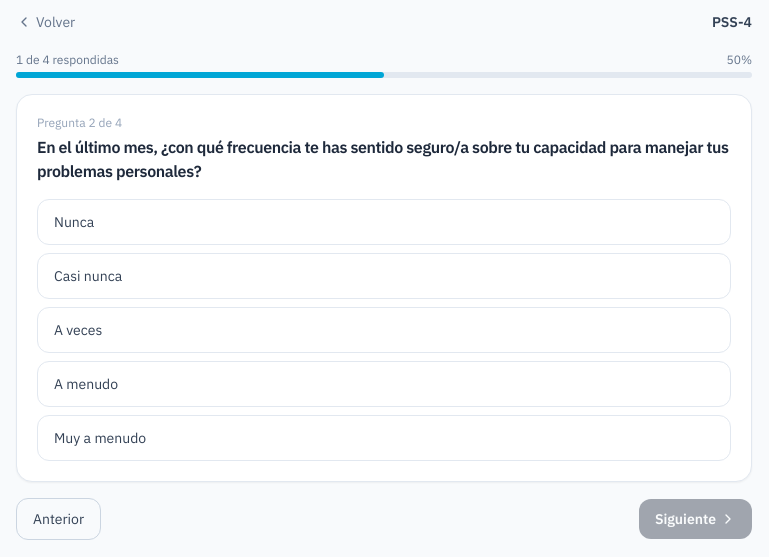
MhAssessmentRunPage (flujo responder → preview → completar → resultado) › prevención de doble submit: confirmar no envía dos POST mientras guarda
The width and height of the screenshot is (769, 557).
Earlier steps of the test are not shown.
Later steps or results of the test are not shown.
Expected: the text "Pregunta 2 de 4" is shown, [37, 115, 122, 130]
Click the button "Casi nunca" at (88, 276), box [37, 253, 731, 299]
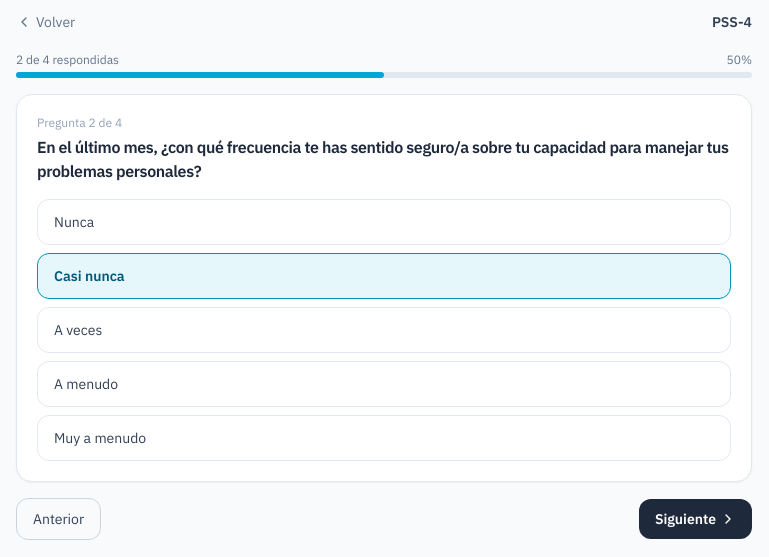
Click the button "Siguiente" at (695, 519), box [639, 499, 752, 539]
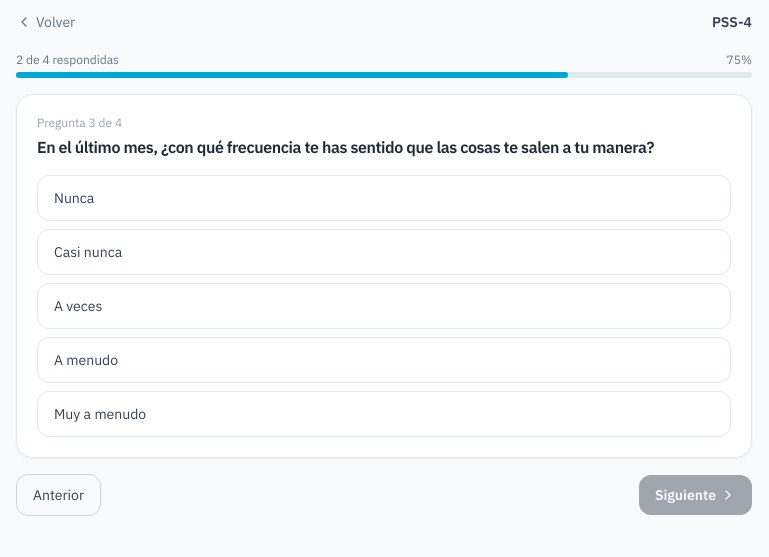
Expected: the text "Pregunta 3 de 4" is shown, [37, 115, 122, 130]
Click the button "A veces" at (78, 306), box [37, 283, 731, 329]
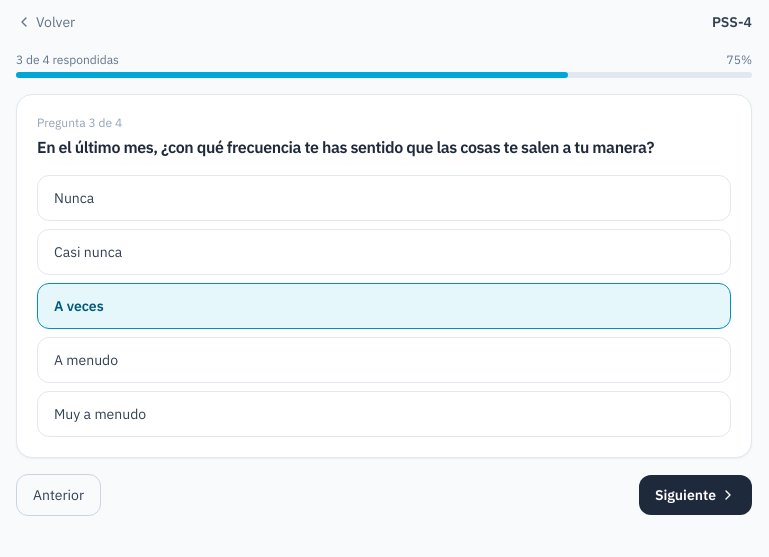
Click the button "Siguiente" at (695, 495), box [639, 475, 752, 515]
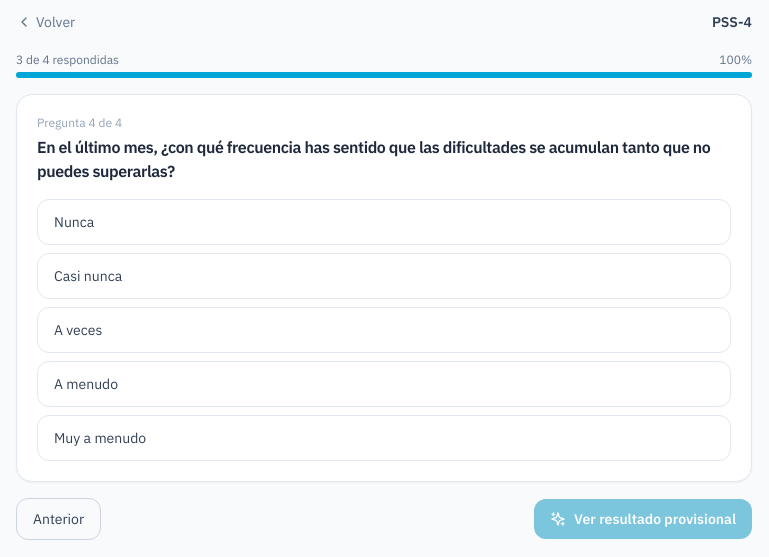
Expected: the text "Pregunta 4 de 4" is shown, [37, 115, 122, 130]
Click the button "Muy a menudo" at (100, 438), box [37, 415, 731, 461]
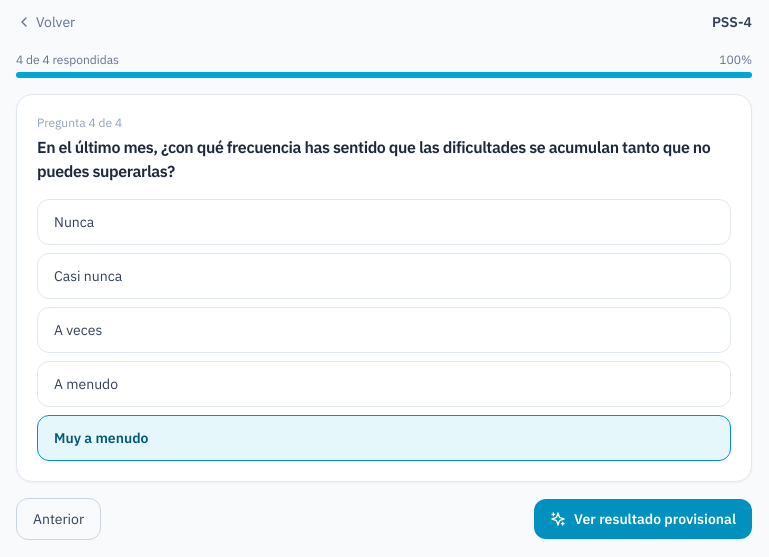
Click the button with test id "wb-preview-btn" at (643, 519), box [534, 499, 752, 539]
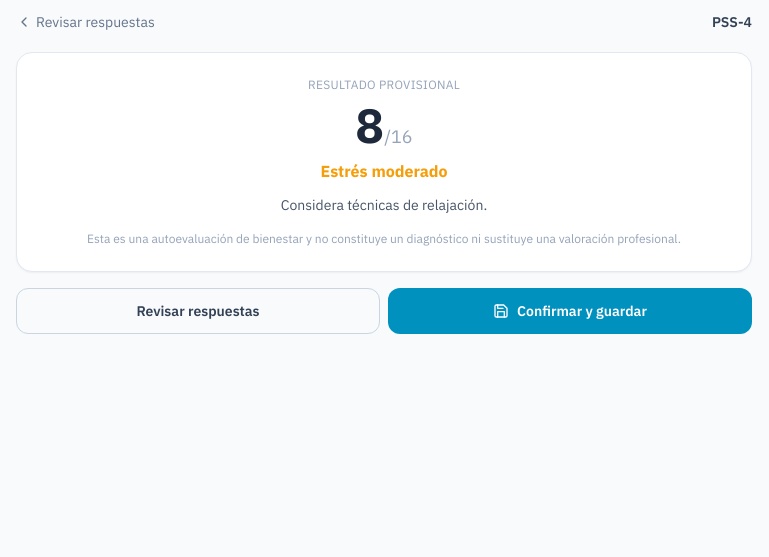
Expected: the element with test id "wb-preview" is shown, [16, 52, 752, 334]
Expected: the button with test id "wb-confirm" is shown, [388, 288, 752, 334]
